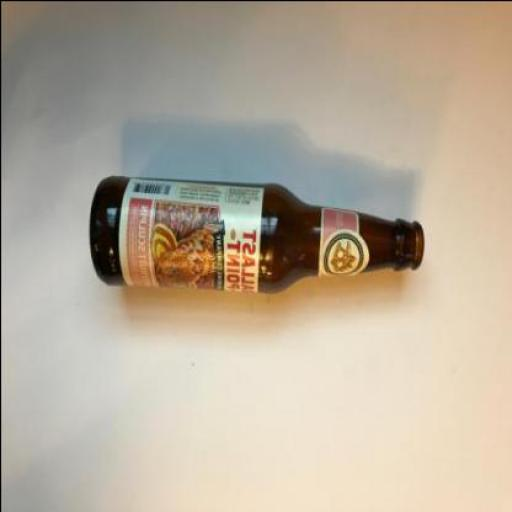glass: (88, 174, 425, 294)
